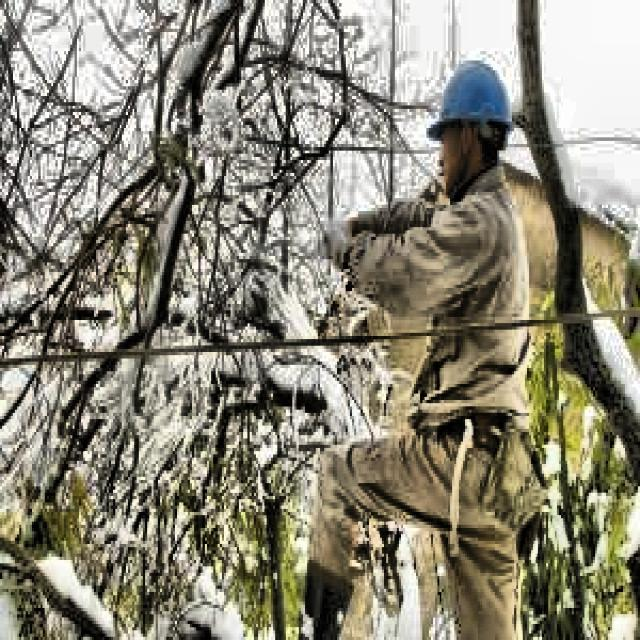helmet: (424, 48, 518, 202)
